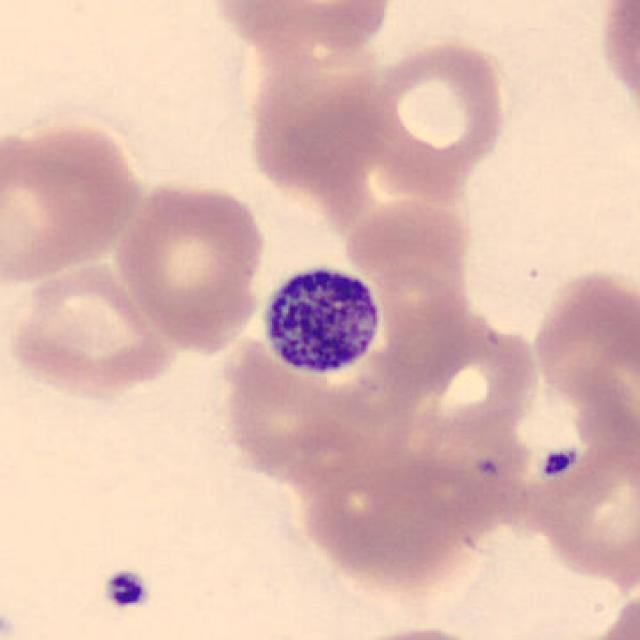Basophil: (249, 252, 402, 402)
Platelets: (98, 564, 154, 616), (538, 438, 584, 486)
RBC: (295, 442, 496, 592), (110, 176, 270, 353), (3, 256, 180, 404), (0, 116, 148, 290), (364, 34, 512, 192), (441, 520, 629, 640), (377, 319, 532, 460), (388, 402, 540, 538), (526, 261, 638, 425), (524, 432, 640, 589), (339, 192, 476, 289), (202, 0, 396, 56), (595, 0, 640, 125), (579, 587, 640, 640), (334, 622, 500, 640)
